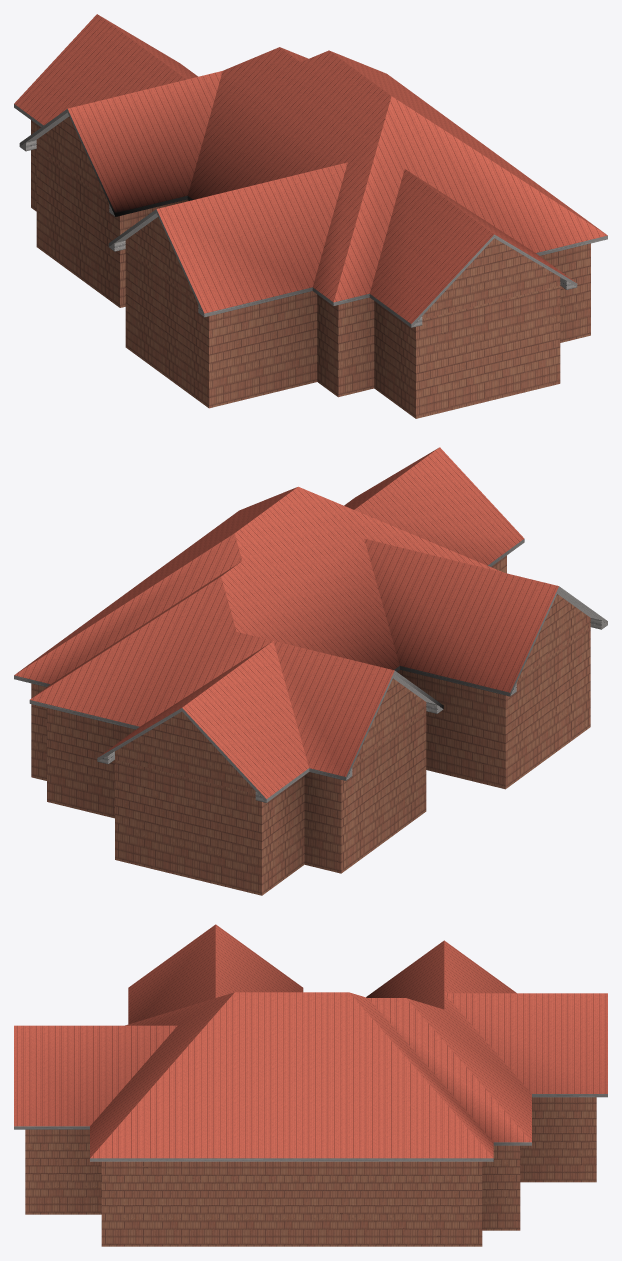
Rendered from house_016.glb.
3 renders of one model, top to bottom at view 1: azimuth 30°, elevation 25°; view 2: azimuth 150°, elevation 25°; view 3: azimuth 270°, elevation 25°, orthographic. The views are drawn at different scales.
Parts seen in each view (by area): view 1: Export; view 2: Export; view 3: Export.
Boxes of the visible parts, <box> form: Export: <box>14,14,607,418</box>; Export: <box>14,447,607,895</box>; Export: <box>14,924,607,1246</box>.
Bounding box in the file's own units: 10.6 × 5.74 × 15.6.
Materials: 3 (3 with a texture image).
